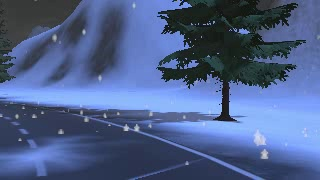Lane: (1, 102, 264, 179)
